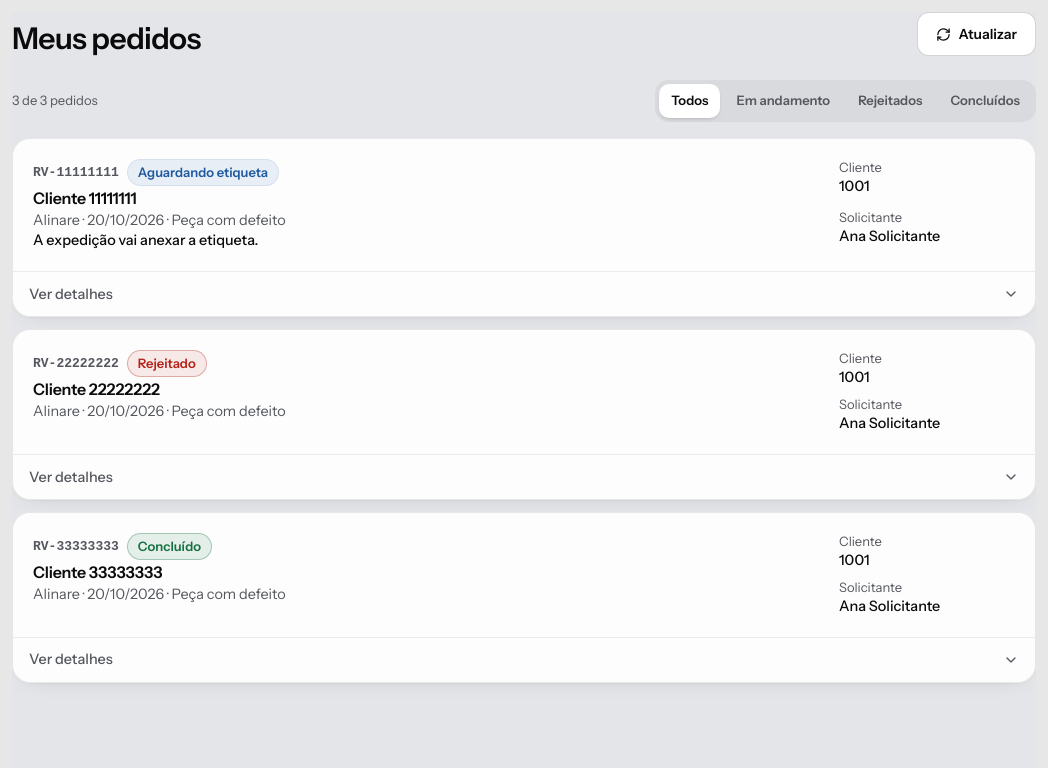
Test: MeusPedidosPage › carrega detalhes somente ao expandir e não dispara operações logísticas ou leitura de PDF
Expected: the text "Cliente 22222222" is shown, [33,379,160,399]
Click the heading "Ver detalhes" below "Cliente 22222222".
click(71, 476)  # box [29,468,1019,486]
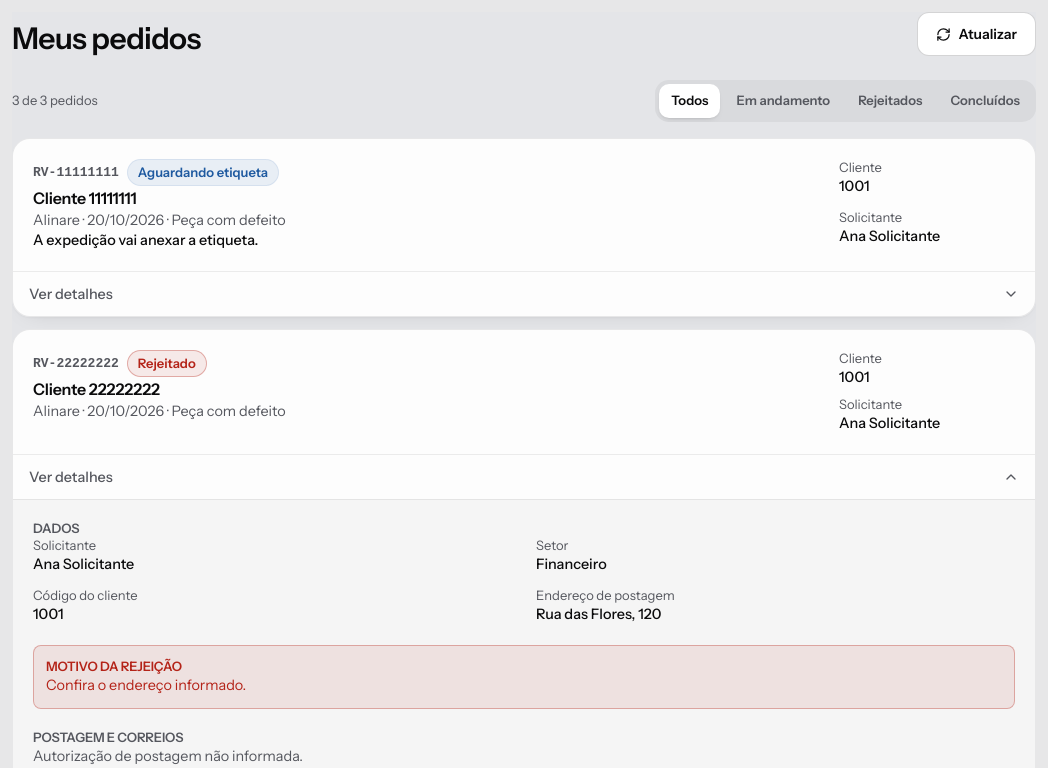
Result: the text "Confira o endereço informado." is shown at [46,676,246,694]
